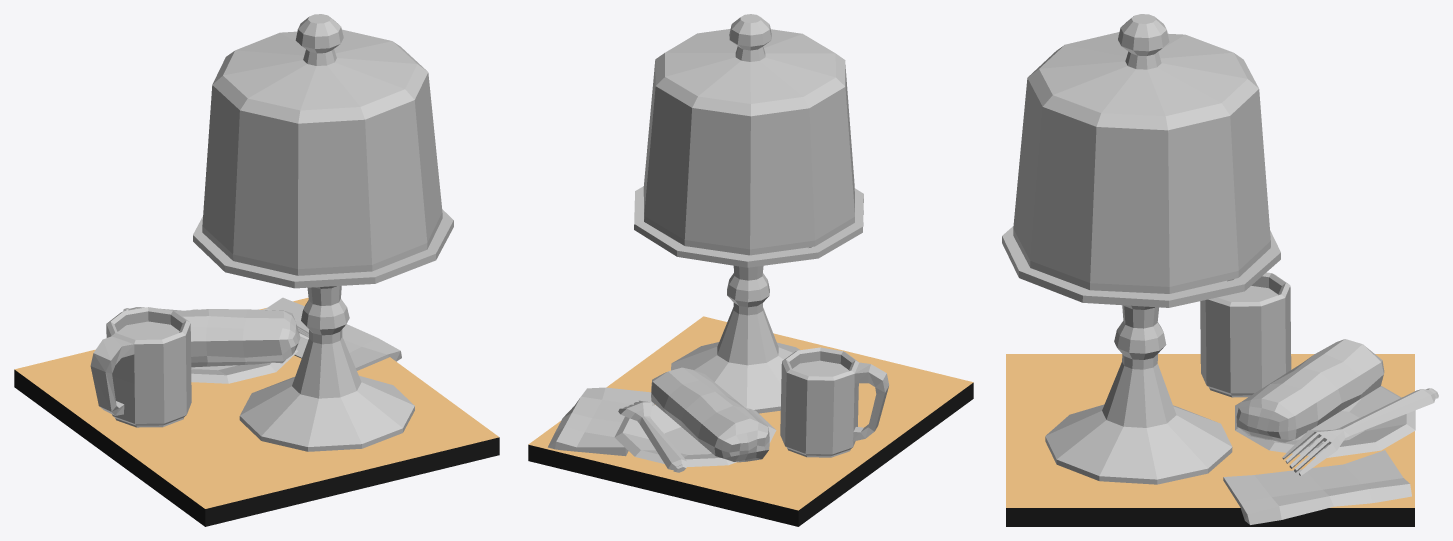
Rendered from fancyDesserts.obj.
3 renders of one model, left to right at view 1: azimuth 30°, elevation 25°; view 2: azimuth 150°, elevation 25°; view 3: azimuth 270°, elevation 25°, orthographic. The views are drawn at different scales.
Parts seen in each view (by area): view 1: group1307717322, group425272709, group946731157, group1895318755, group377362996, group419909856; view 2: group1307717322, group425272709, group946731157, group1895318755, group377362996, group419909856, group1418326412; view 3: group1307717322, group425272709, group946731157, group1895318755, group377362996, group419909856, group1418326412.
Part boxes in pixels (<box>): group1307717322: <box>193,14,453,451</box>; group425272709: <box>14,297,499,526</box>; group946731157: <box>90,307,191,427</box>; group1895318755: <box>175,309,300,367</box>; group377362996: <box>262,297,401,370</box>; group419909856: <box>190,309,298,383</box>; group1307717322: <box>634,14,863,413</box>; group425272709: <box>528,316,973,526</box>; group946731157: <box>780,347,889,457</box>; group1895318755: <box>651,367,769,462</box>; group377362996: <box>548,387,654,456</box>; group419909856: <box>614,405,776,466</box>; group1418326412: <box>618,400,687,472</box>; group1307717322: <box>1002,14,1280,484</box>; group425272709: <box>1006,354,1414,526</box>; group946731157: <box>1200,272,1291,397</box>; group1895318755: <box>1236,339,1384,442</box>; group377362996: <box>1223,450,1411,524</box>; group419909856: <box>1235,386,1415,457</box>; group1418326412: <box>1282,388,1438,475</box>.
Bounding box in the file's own units: 1.5 × 1.87 × 1.66.
